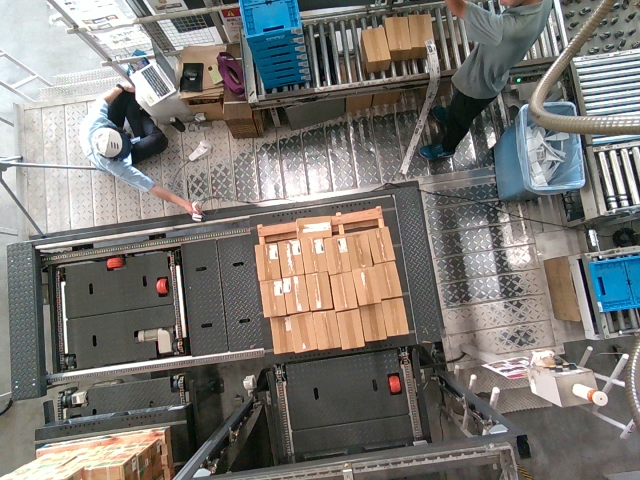box: (289, 313, 315, 351), (338, 309, 362, 350), (253, 242, 279, 279), (360, 301, 384, 341), (354, 267, 380, 303), (298, 235, 322, 272), (384, 297, 407, 335), (259, 279, 283, 315), (369, 226, 393, 262), (324, 237, 350, 270), (278, 239, 301, 276), (331, 273, 355, 308), (307, 272, 329, 310), (377, 260, 401, 294), (315, 309, 335, 349), (284, 275, 306, 311)
